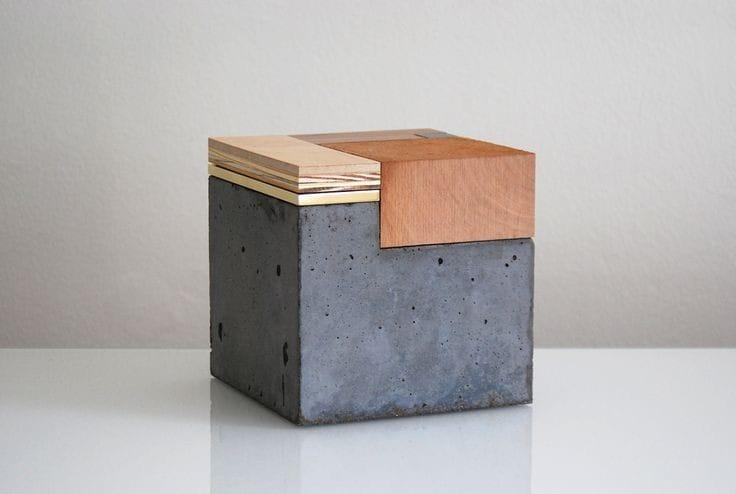cubos: (188, 111, 559, 436)
